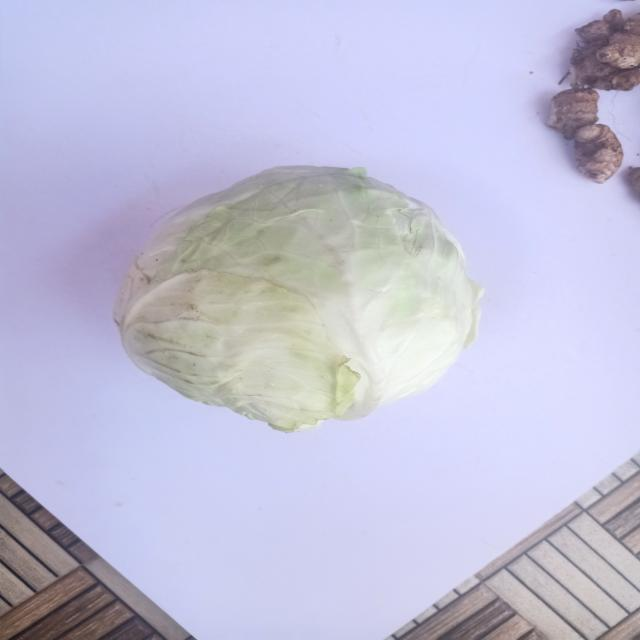Cabbage: (113, 166, 484, 433)
